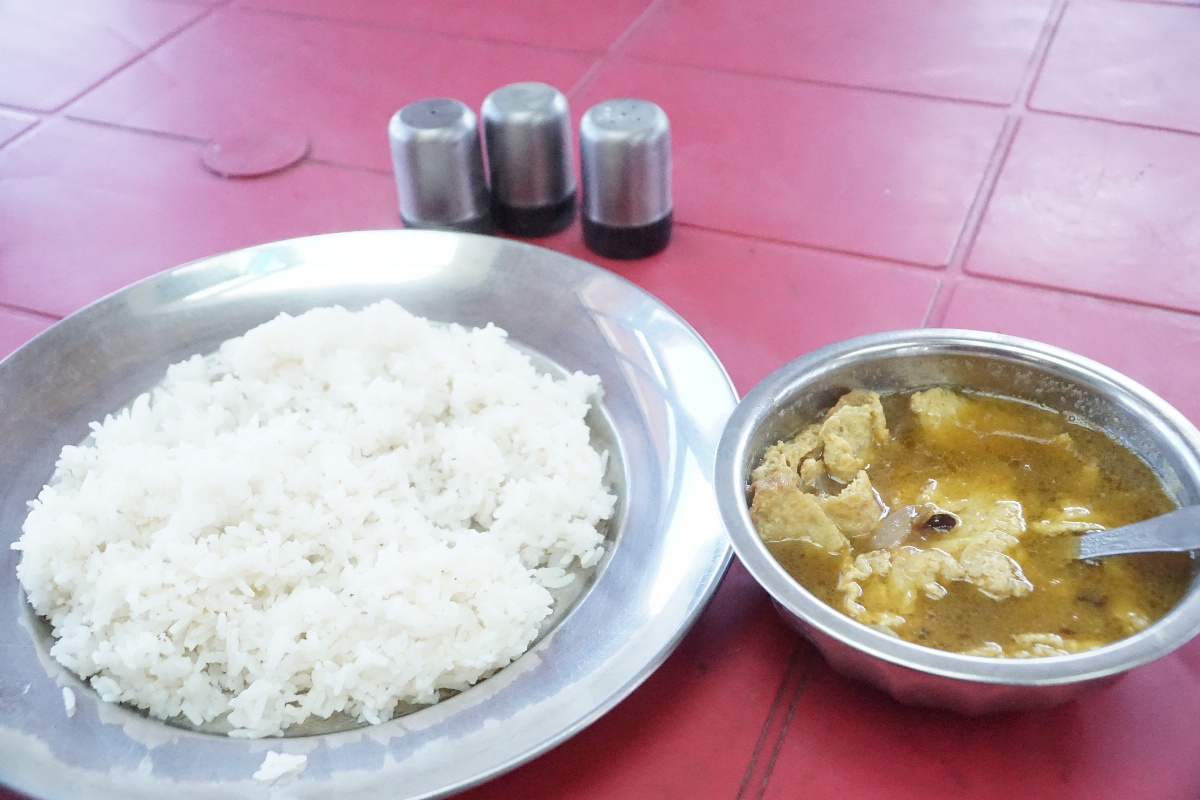plain rice: (78, 384, 545, 639)
